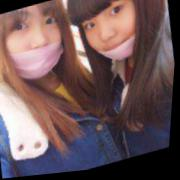WRONG: (1, 4, 74, 88), (78, 1, 152, 75)
